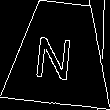N_N: (38, 26, 82, 81)
